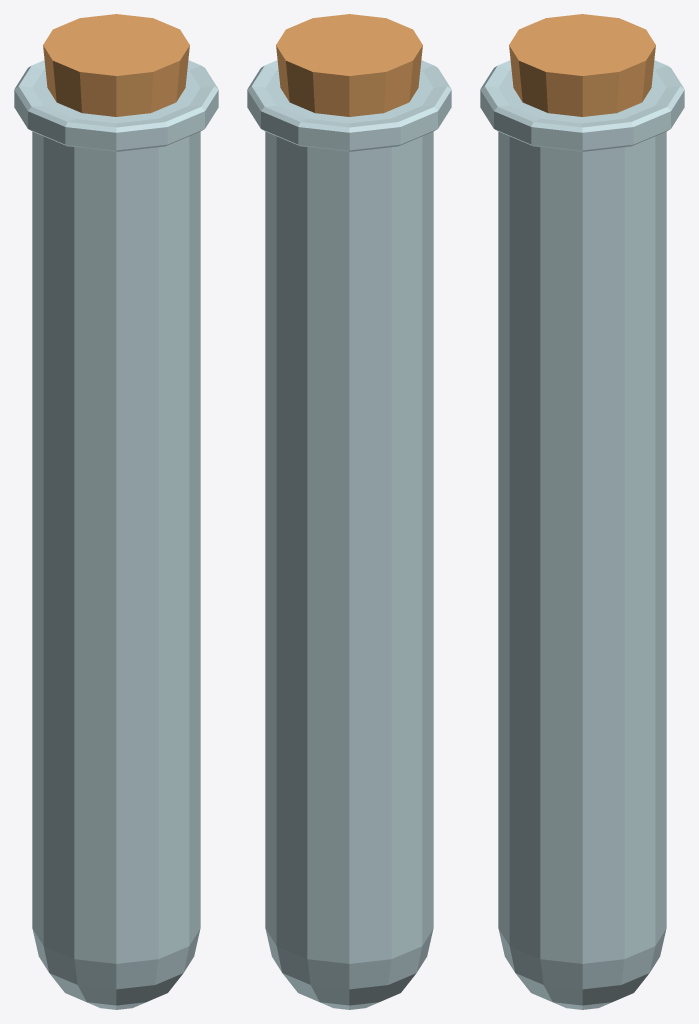
The model's file is FBX_PotionSmall_Health.fbx.
3 renders of one model, left to right at view 1: azimuth 30°, elevation 25°; view 2: azimuth 150°, elevation 25°; view 3: azimuth 270°, elevation 25°, orthographic.
Parts seen in each view (by area): view 1: BottleSmall, Cork; view 2: BottleSmall, Cork; view 3: BottleSmall, Cork.
Part boxes in pixels (<box>): BottleSmall: <box>14,60,218,1009</box>; Cork: <box>43,14,189,116</box>; BottleSmall: <box>247,60,451,1009</box>; Cork: <box>276,14,422,116</box>; BottleSmall: <box>480,60,684,1009</box>; Cork: <box>509,14,655,116</box>.
Bounding box in the file's own units: 3.65 × 18.84 × 3.65.
